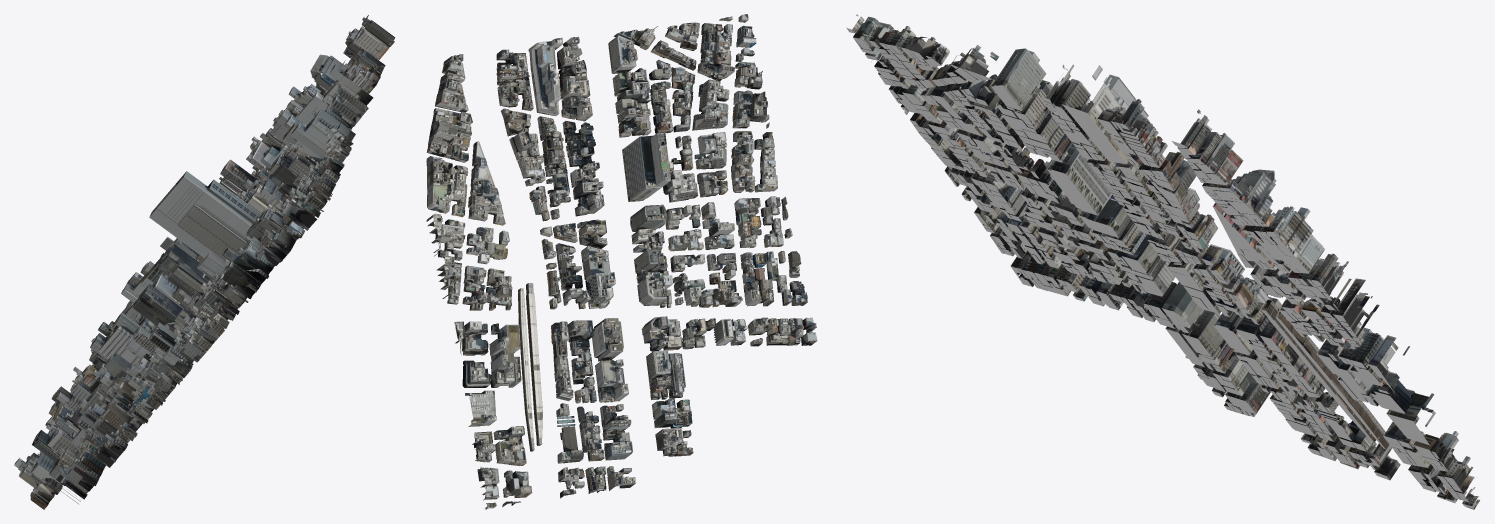
Rendered from 9883_bldg_Building.glb.
3 views of the same model, side by side, from view 1: azimuth 30°, elevation 25°; view 2: azimuth 150°, elevation 25°; view 3: azimuth 270°, elevation 25° (orthographic). The views are drawn at different scales.
Bounding box in the file's own units: 496 × 525 × 616.
Materials: 8 (7 with a texture image).
